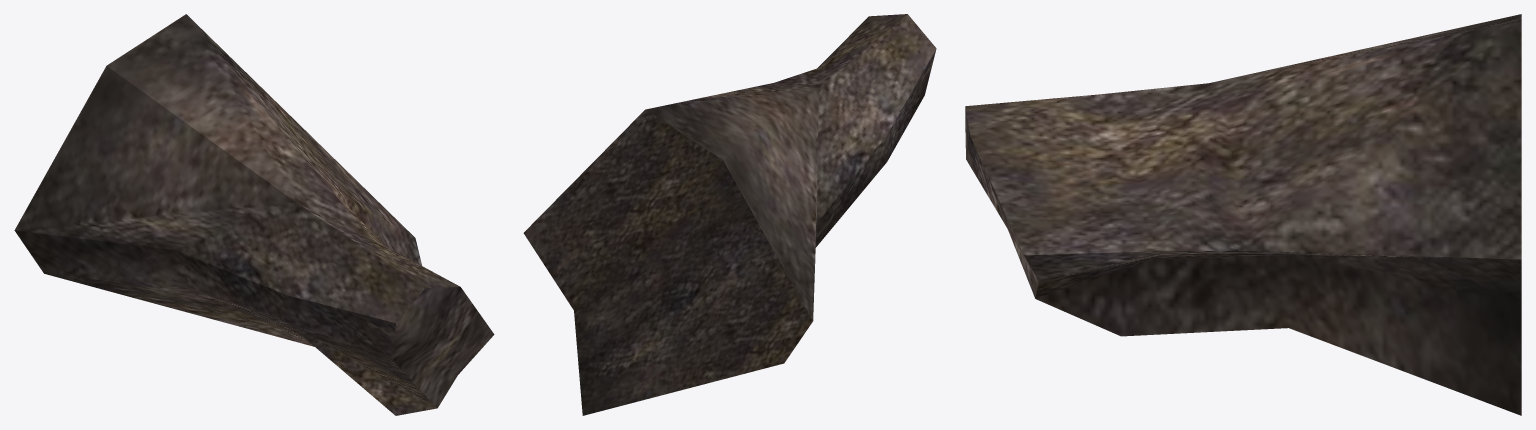
3 views of the same model, side by side, from view 1: azimuth 30°, elevation 25°; view 2: azimuth 150°, elevation 25°; view 3: azimuth 270°, elevation 25° (orthographic). The views are drawn at different scales.
Parts seen in each view (by area): view 1: model_Object23; view 2: model_Object23; view 3: model_Object23.
Part boxes in pixels (x1,y1,x2,y2): model_Object23: [14, 14, 494, 415]; model_Object23: [523, 14, 936, 415]; model_Object23: [965, 14, 1521, 415].
Bounding box in the file's own units: 0.8992 × 0.9539 × 1.33.
Materials: 1 (1 with a texture image).
